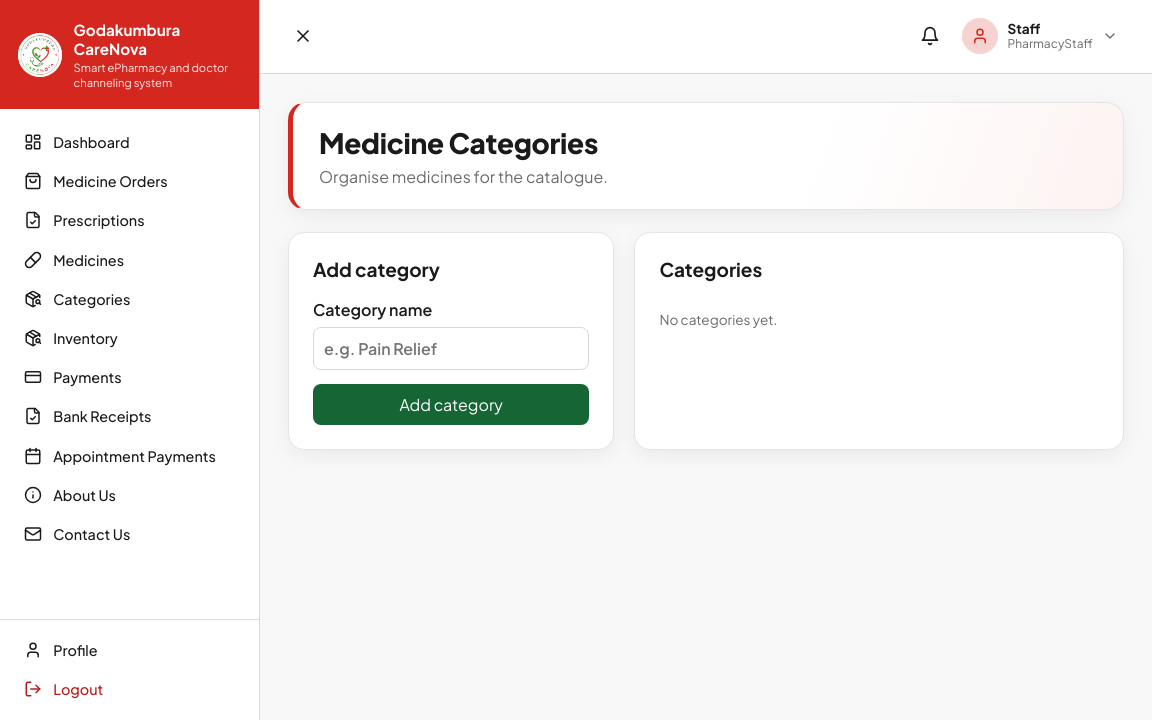
Test: CategoryManagementPage › adds a new category and shows success
Expected: the text "No categories yet." is shown, [659,311,778,328]
Type "Vitamins" into the field labelled "Category name" at (451, 348), box [313,327,589,370]
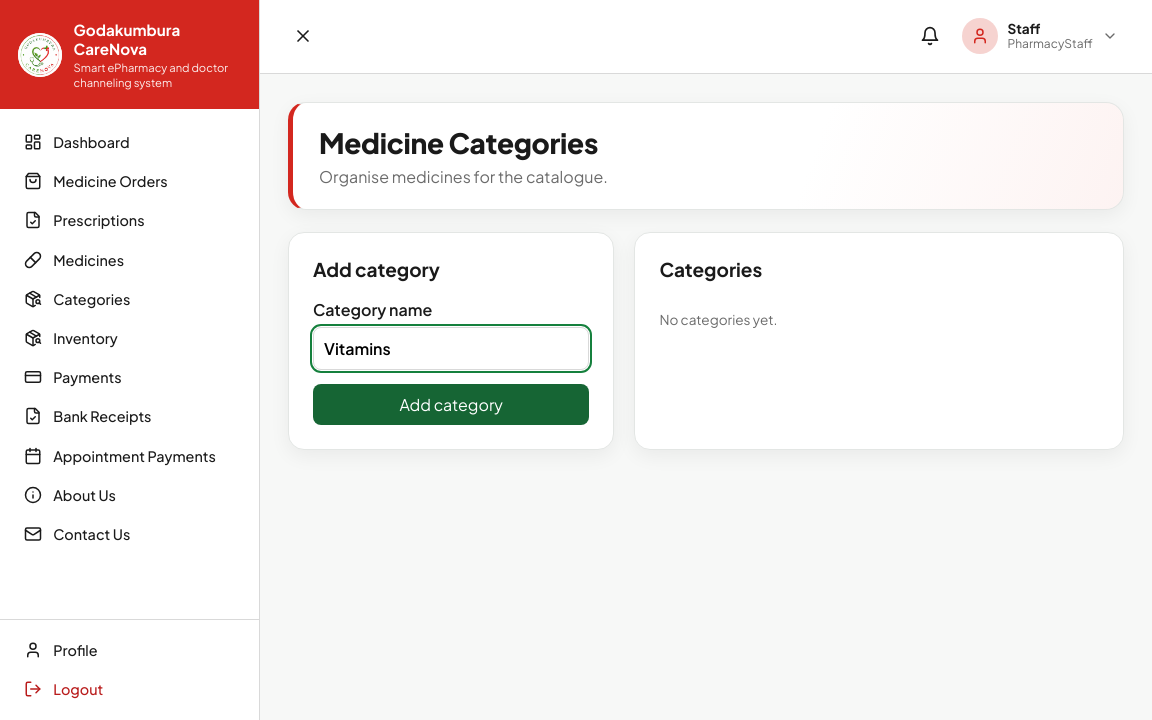
Click the button "Add category" at (451, 404), box [313,384,589,425]
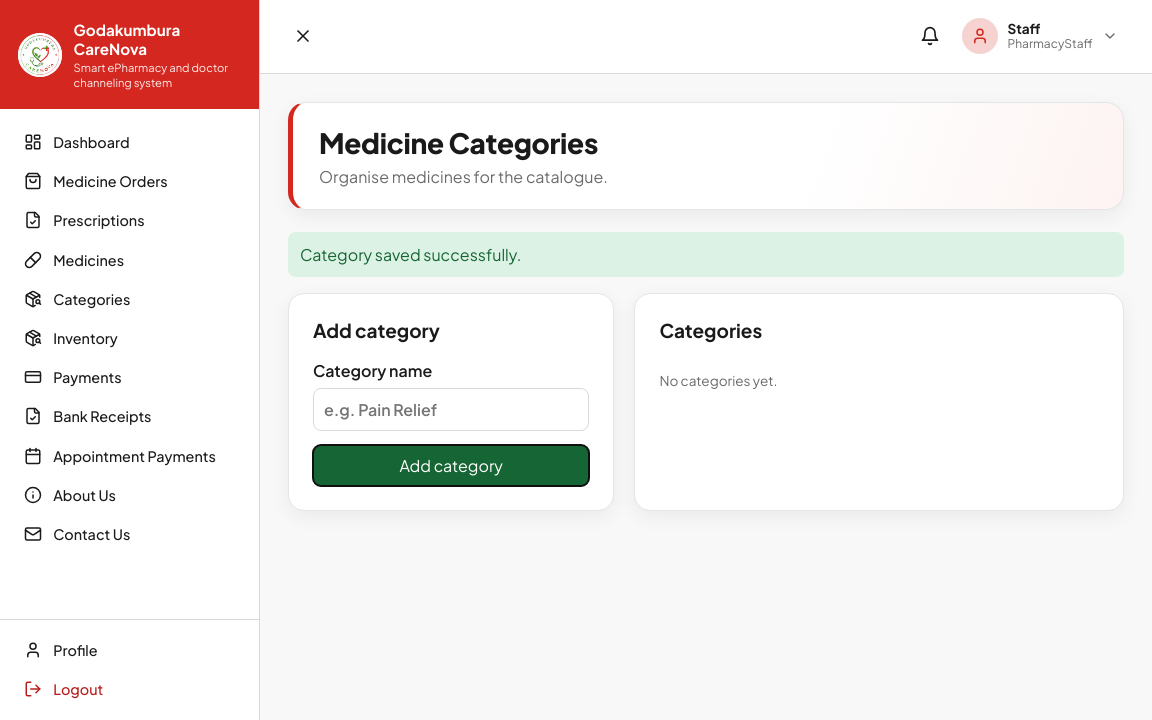
Result: the text "Category saved successfully." is shown at [288,232,1124,277]
